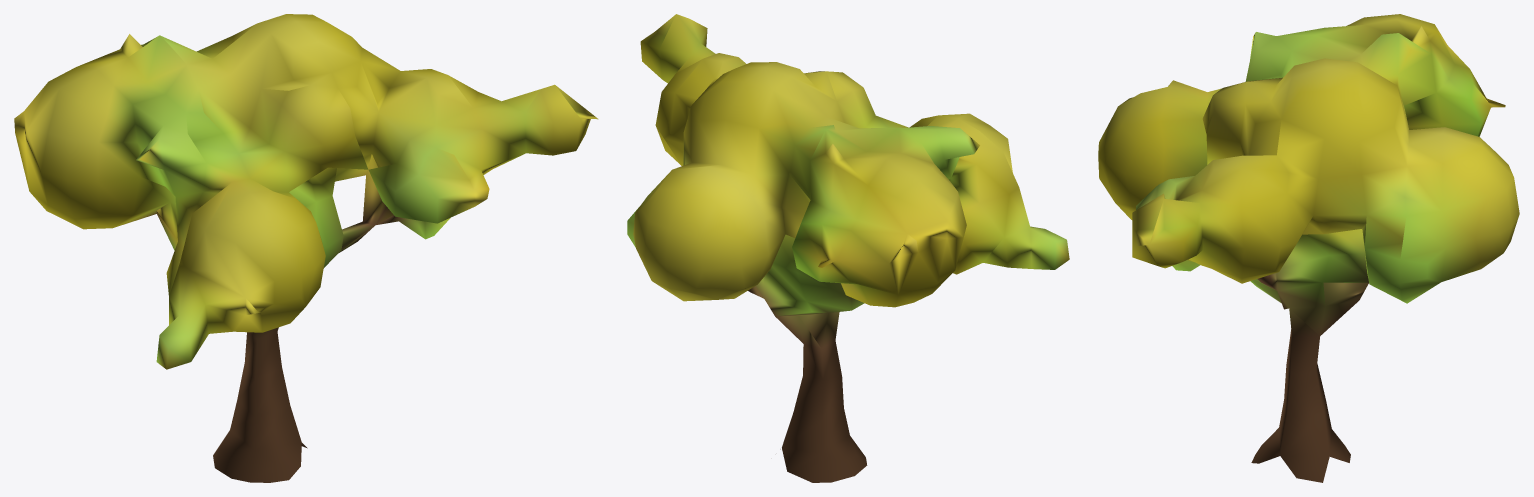
Rendered from orchard-tree-113-lod2.obj.
The picture shows the model from 3 angles, left to right: view 1: azimuth 30°, elevation 25°; view 2: azimuth 150°, elevation 25°; view 3: azimuth 270°, elevation 25°; orthographic projection. The views are drawn at different scales.
Parts seen in each view (by area): view 1: simplified; view 2: simplified; view 3: simplified.
Part boxes in pixels (x1,y1,x2,y2): simplified: (14,14,598,482); simplified: (627,14,1069,482); simplified: (1098,14,1519,482).
Bounding box in the file's own units: 316 × 288 × 263.
